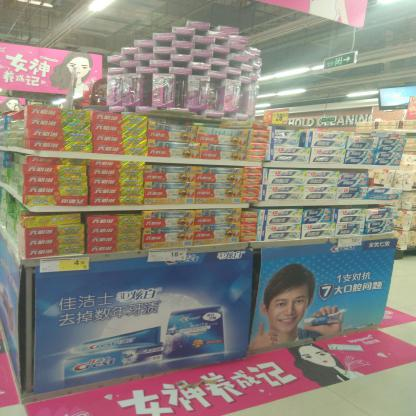Void: (371, 170, 402, 190)
